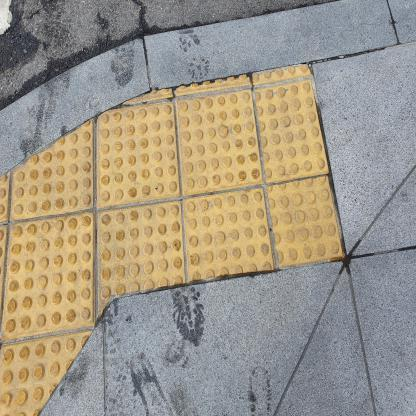podotacti: (0, 57, 352, 415)
